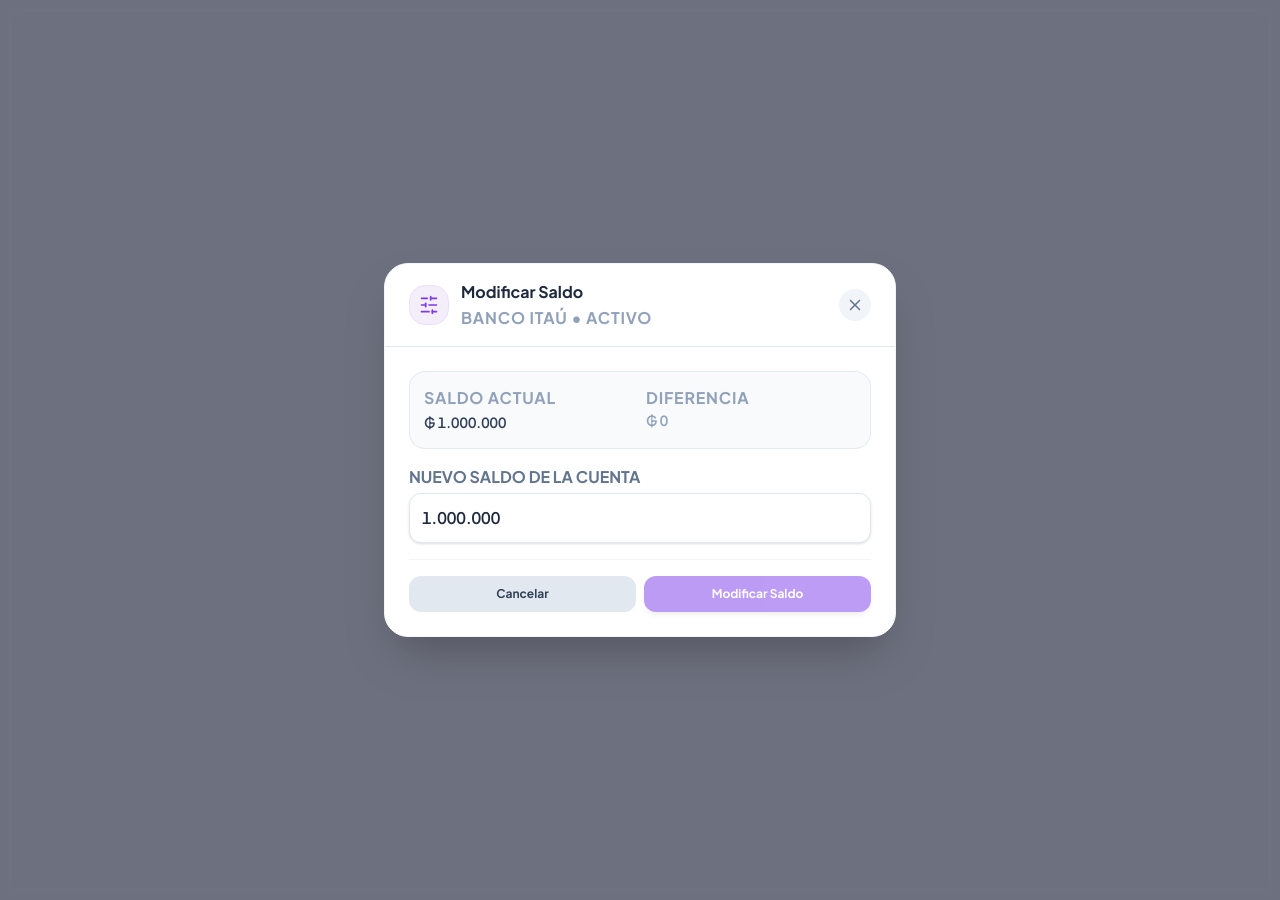
Test case: AdjustBalanceModal › dynamically shows "Contabilizar como Egreso" when ASSET balance decreases
The width and height of the screenshot is (1280, 900).
Replace the text in the field labelled "Nuevo Saldo de la Cuenta" with "800000" at (640, 518), box [409,493,871,543]
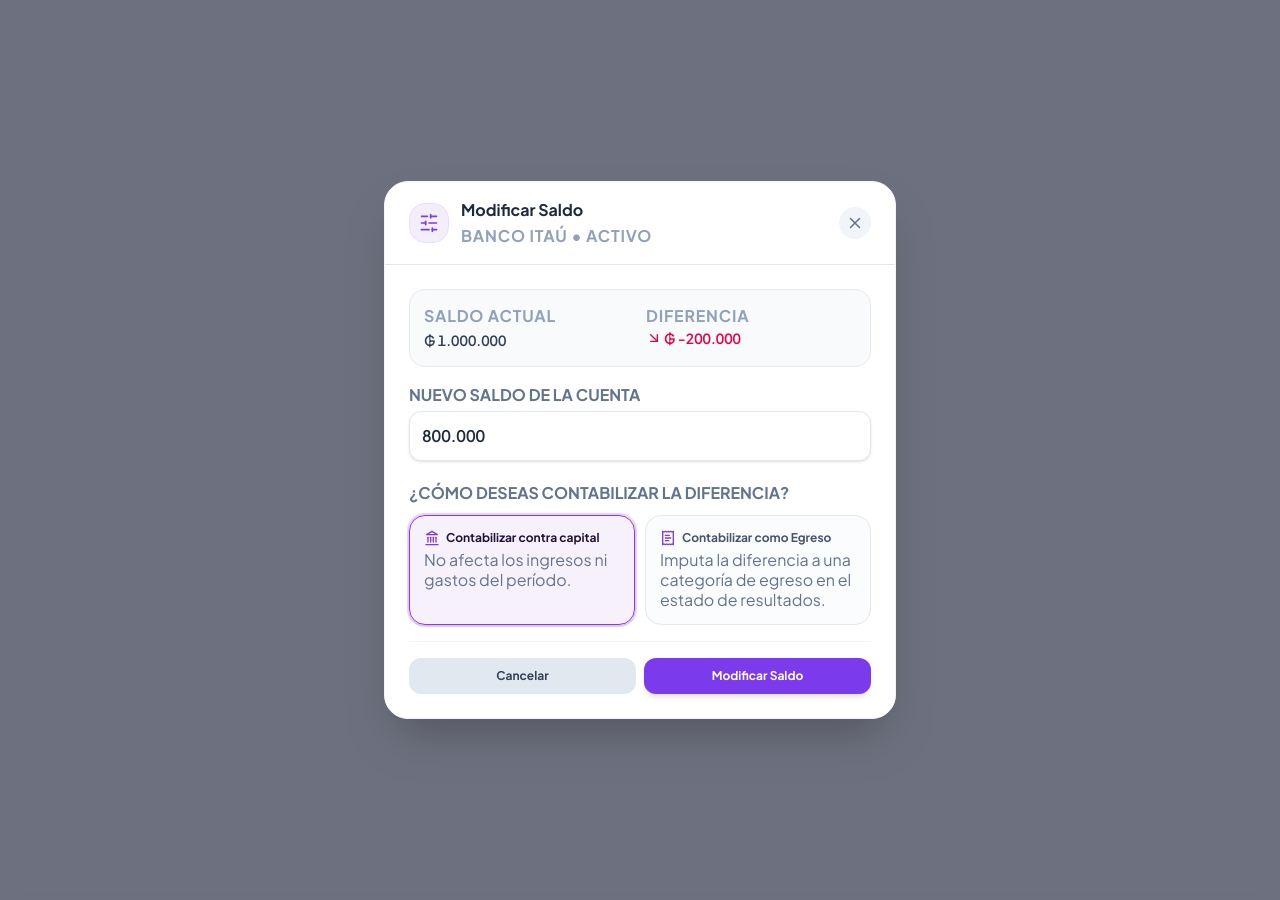
Expected: the text "Contabilizar como Egreso" is shown
Click the text "Contabilizar como Egreso" at (757, 538), box [682,530,832,546]
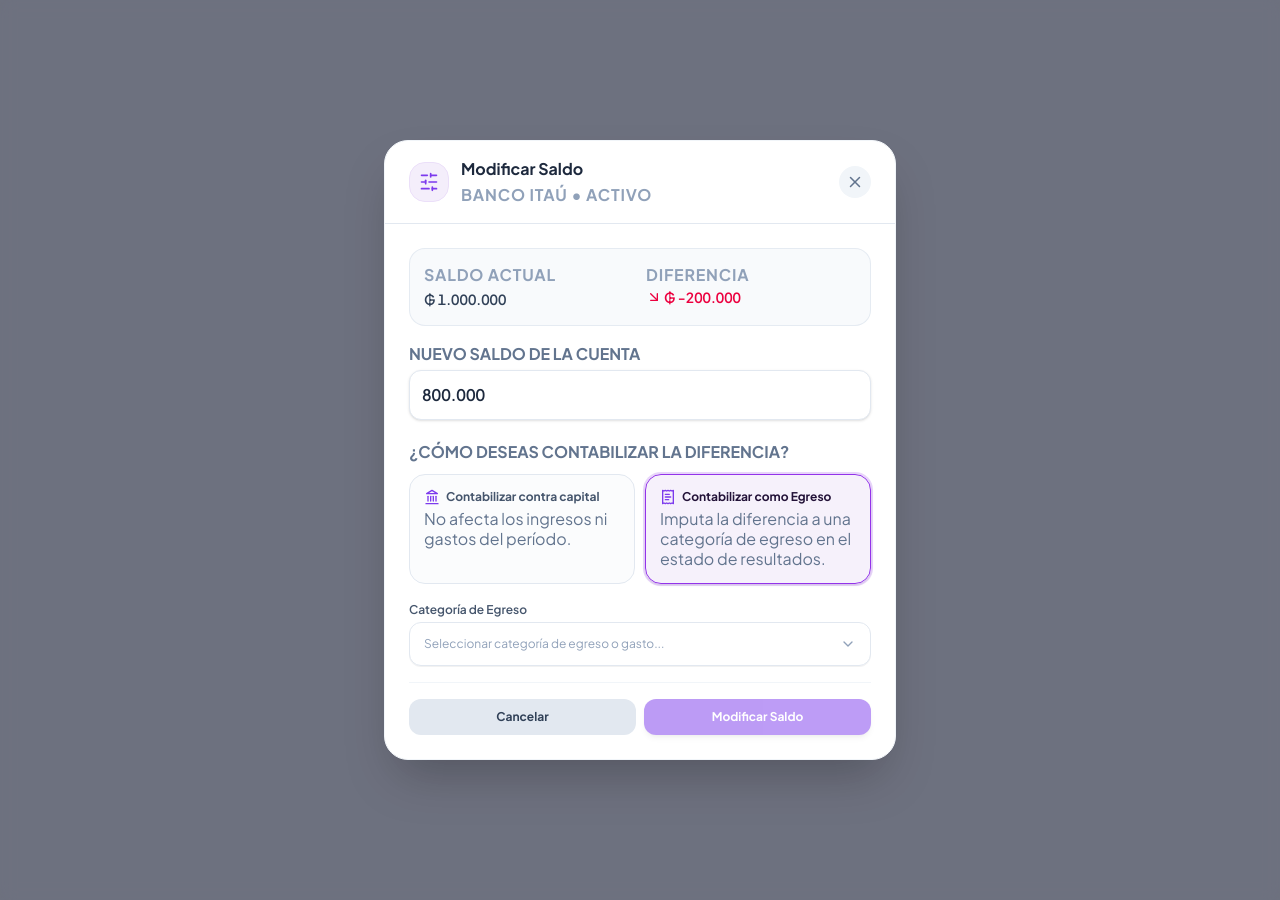
Expected: the text "Categoría de Egreso" is shown, [409,602,527,617]
